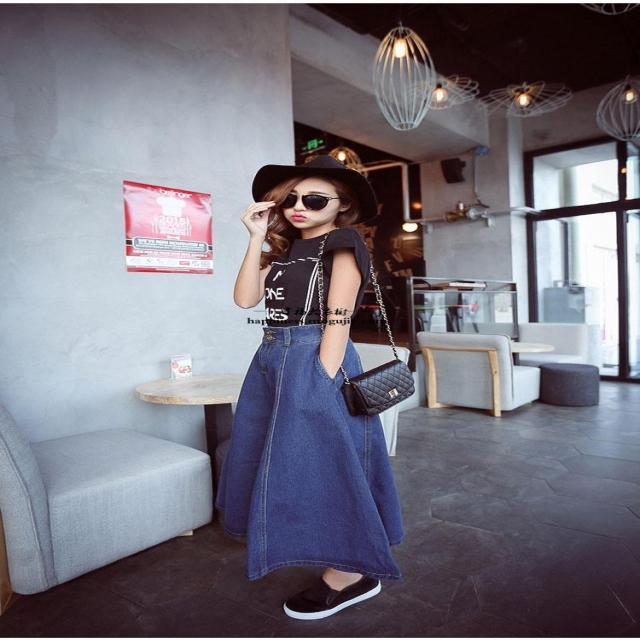short sleeve top: (265, 228, 369, 326)
skirt: (215, 323, 401, 563)
